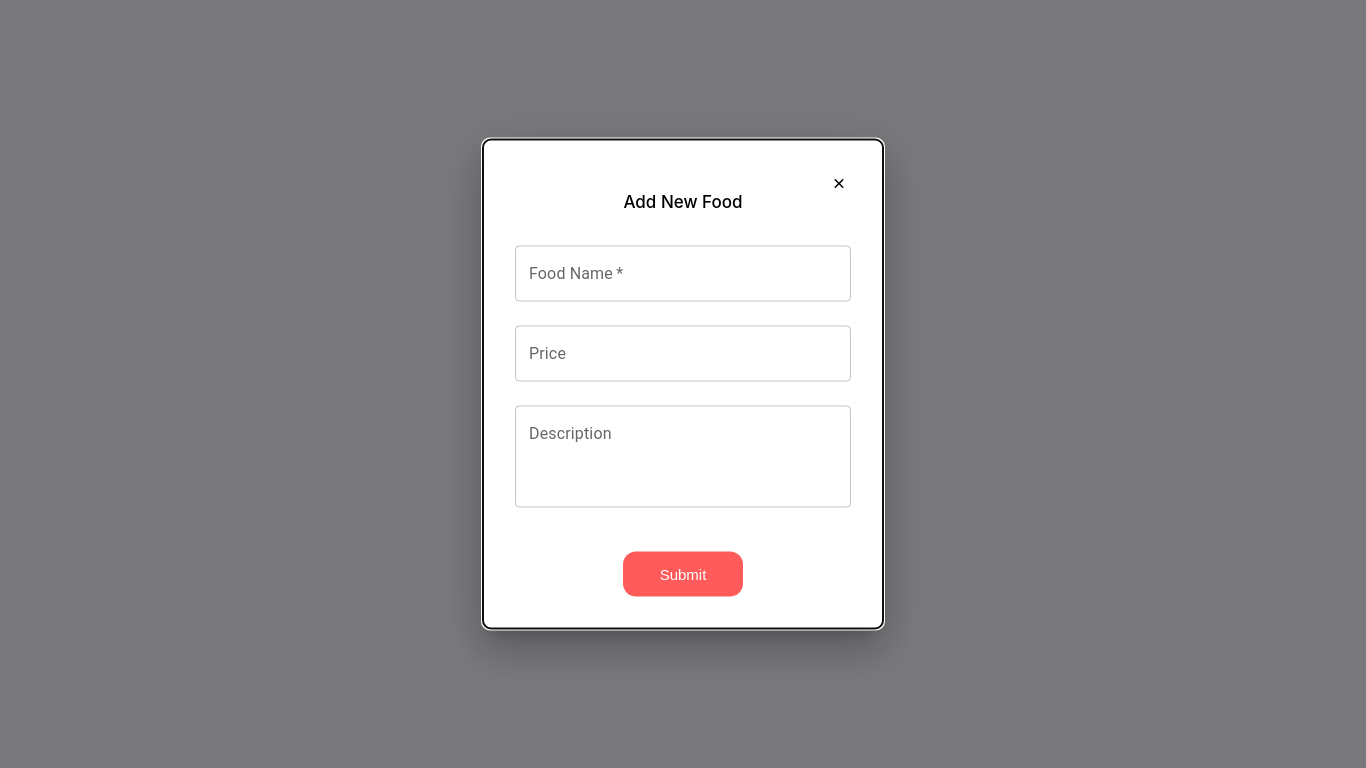
Scenario: AddNewFood Component › Hiển thị lỗi khi gửi form thất bại
Type "Test Food" into the field labelled "Food Name *".
click(683, 274); type("Test Food")  # box [515,246,851,302]
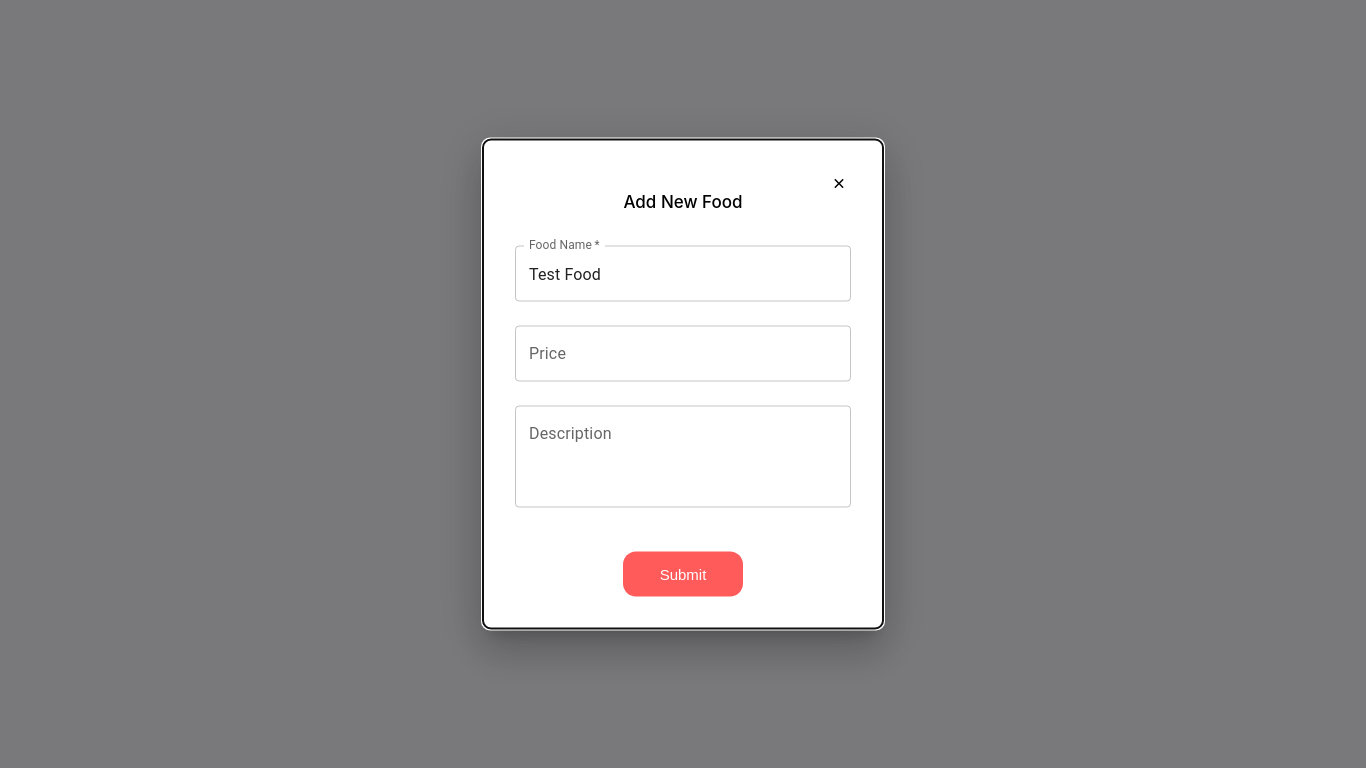
Type "Delicious food" into the text box labelled "Description".
click(683, 456); type("Delicious food")  # box [529,422,837,491]
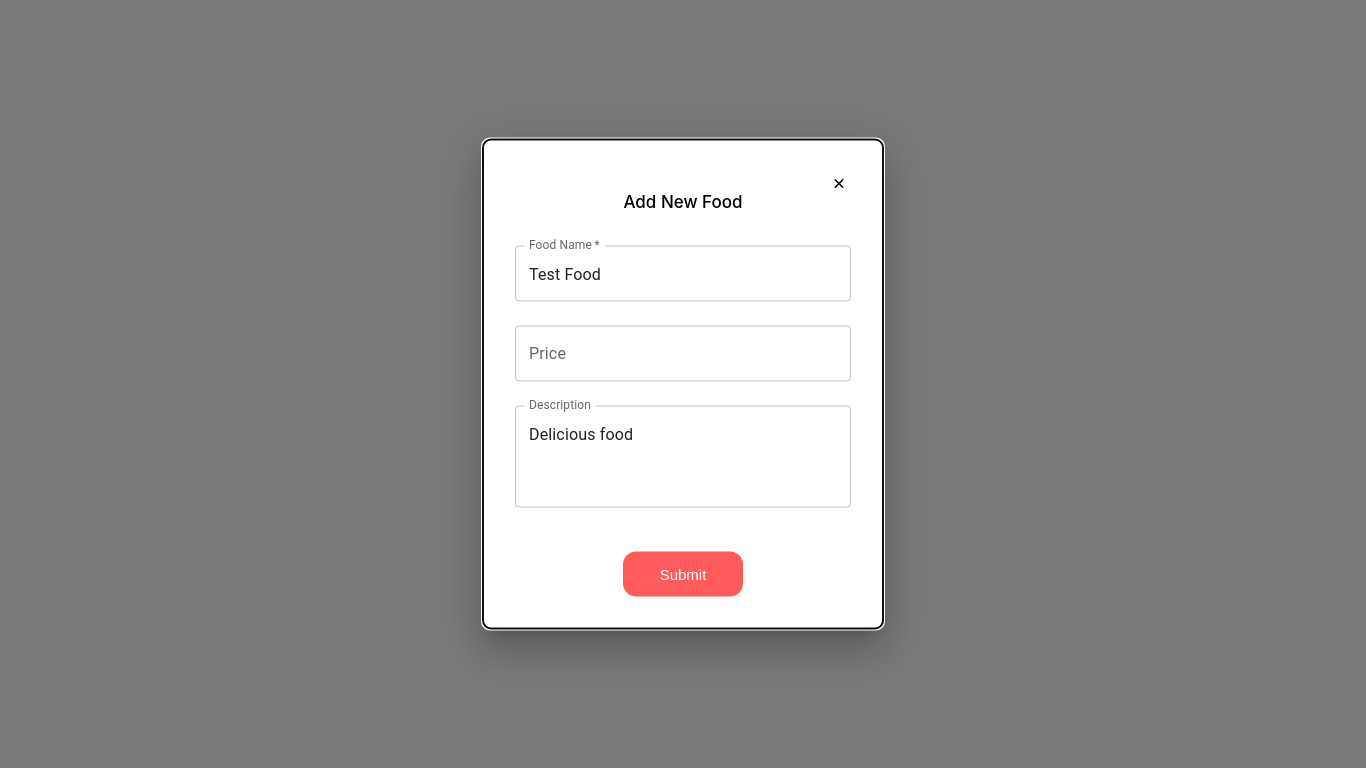
Type "10" into the number field labelled "Price".
click(683, 354); type("10")  # box [515,326,851,382]
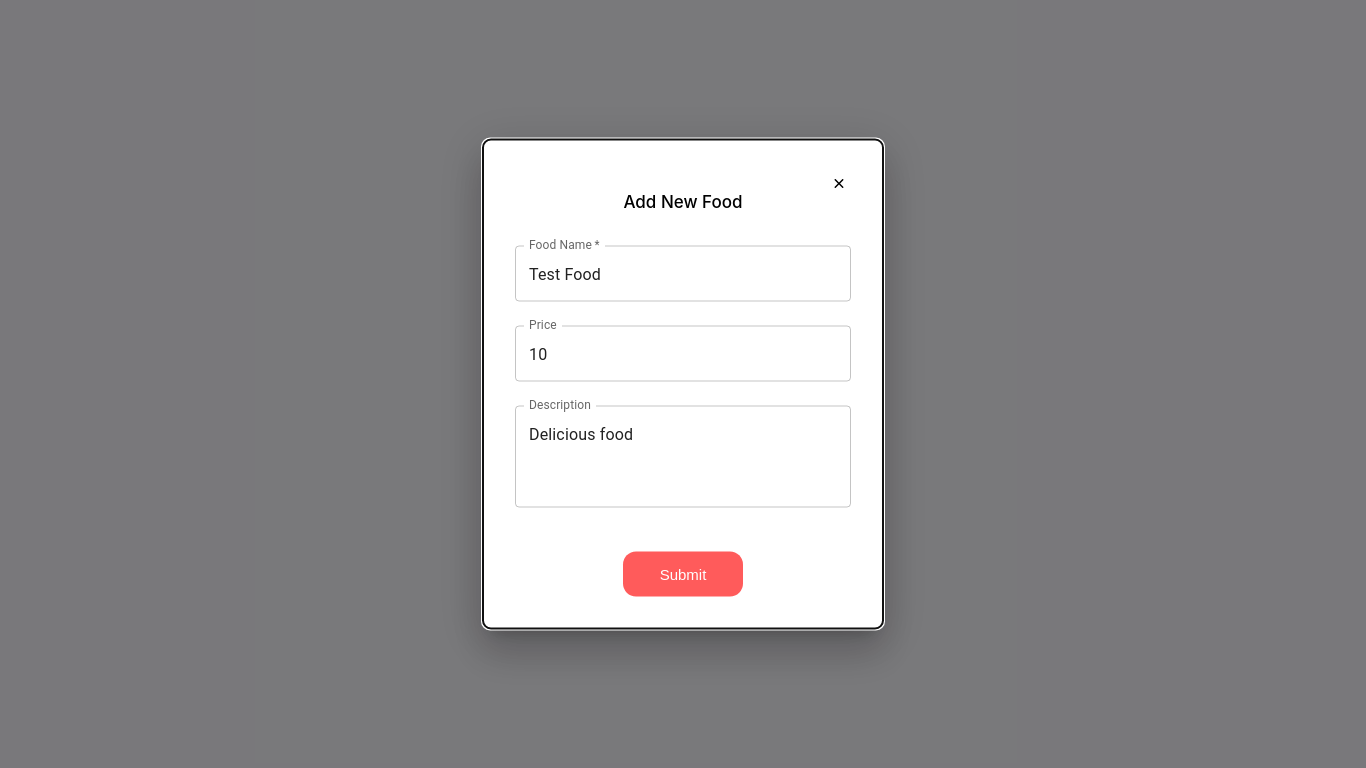
# Nhấn nút submit
Click the button "Submit".
click(683, 574)  # box [623,552,743,596]
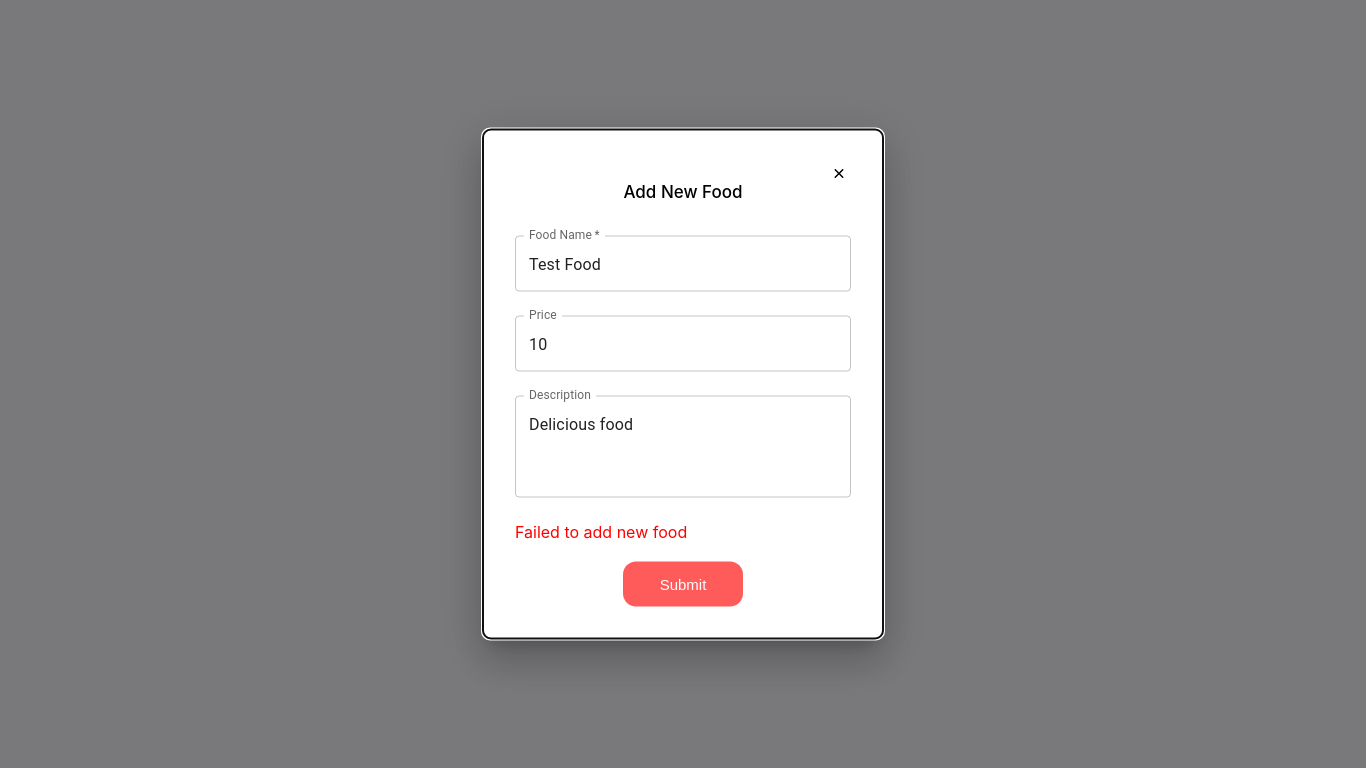
Check: the text "Failed to add new food" is shown, box [515,522,687,542]
